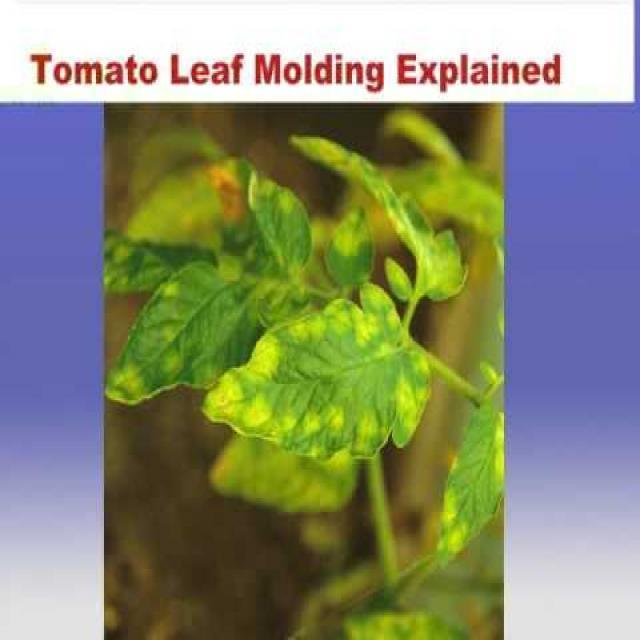Mosaic Virus: (204, 304, 438, 459), (106, 282, 212, 412), (434, 406, 504, 574), (251, 171, 306, 291), (326, 203, 374, 294)
